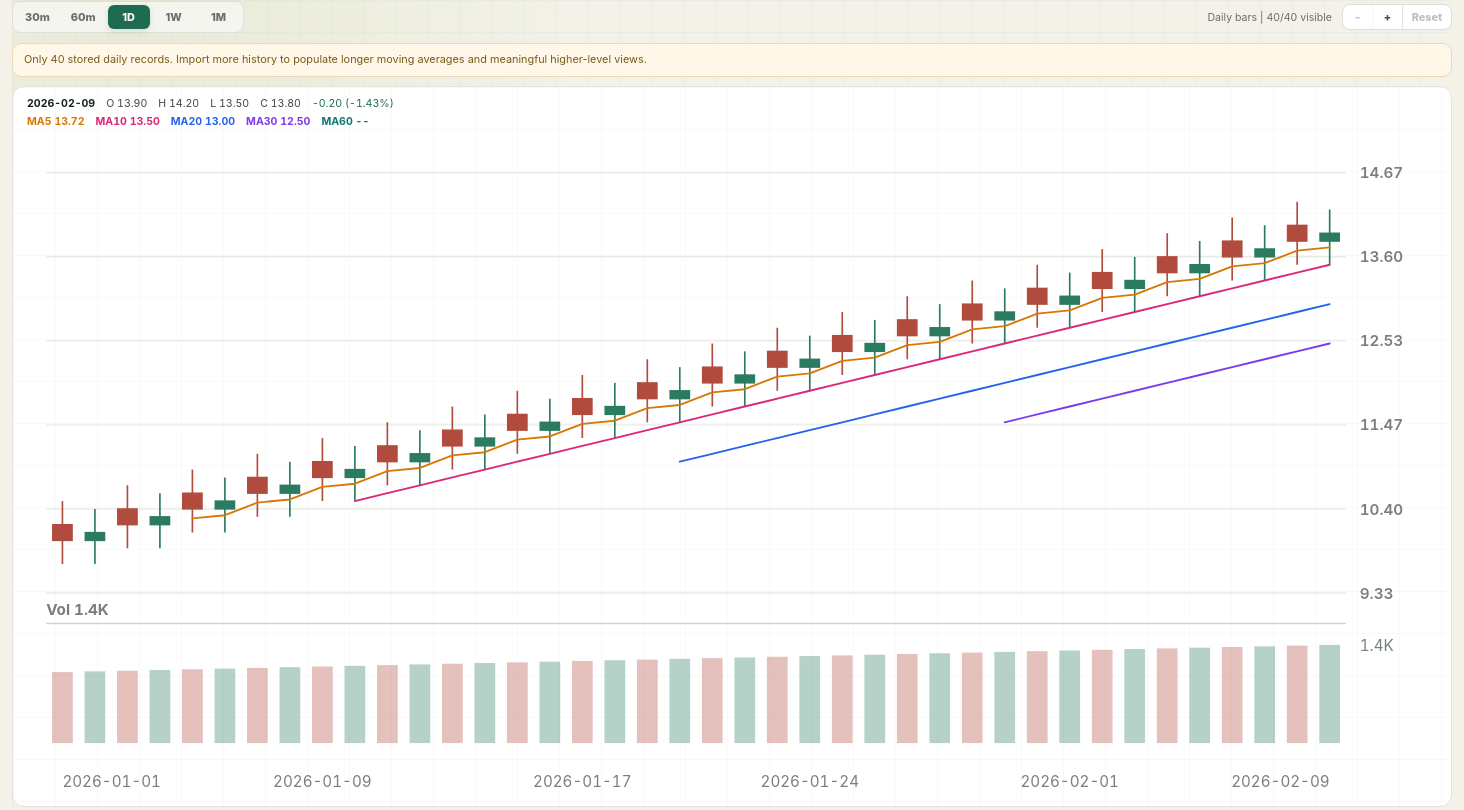
Test: KlineChart › zooms into a smaller bar window and resets to the full history
What coordinates should you click on to do the following:
click the button named "Zoom in"
I would click on:
 (1388, 17)
Its box is [1373, 5, 1403, 29].
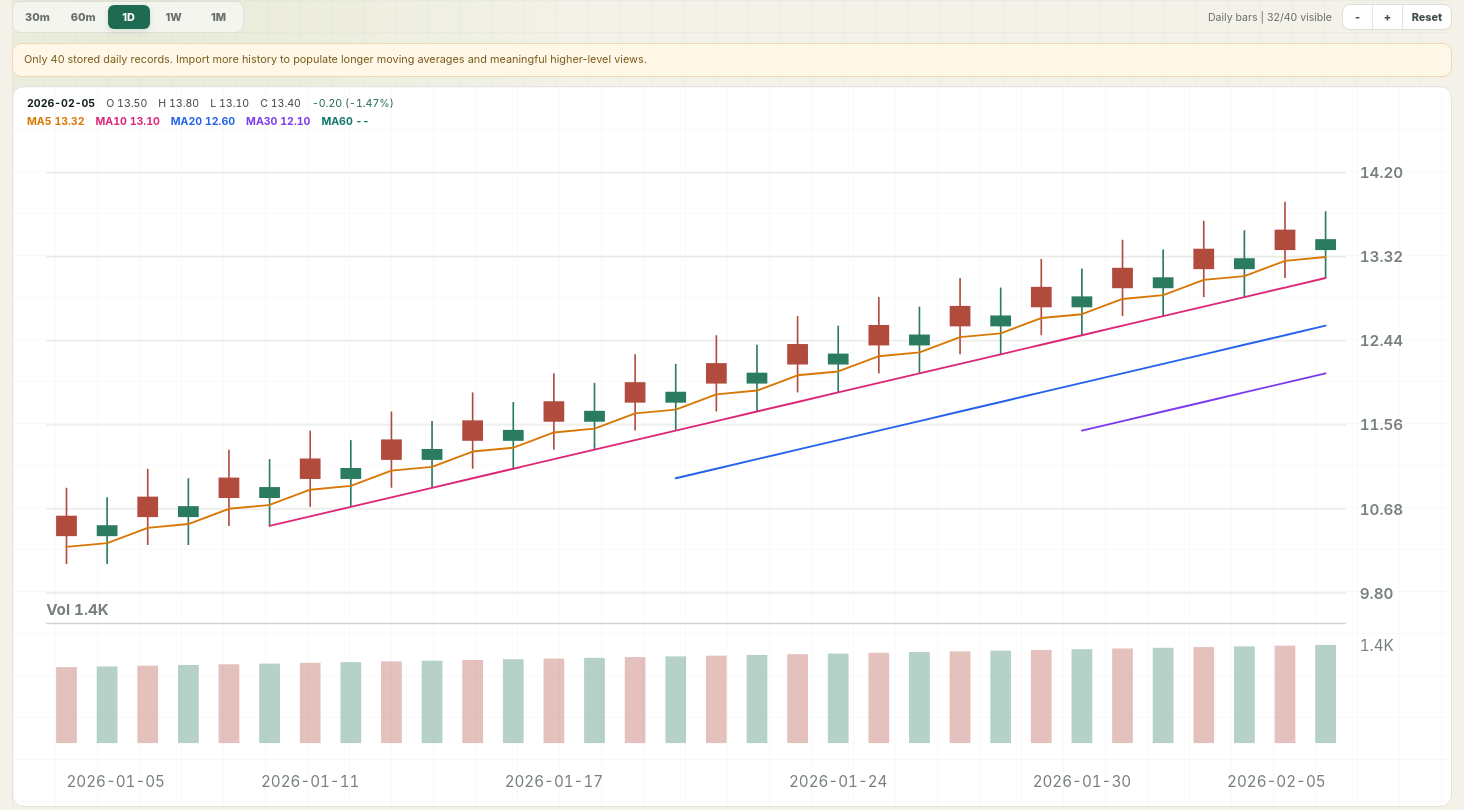
Expected: the button named "Zoom out" is enabled, [1343, 5, 1373, 29]
Expected: the picture named "Daily K-line chart showing 32 of 40 price records" is shown
What coordinates should you click on to do the following:
click the button "Reset"
I would click on:
 (1427, 17)
Its box is [1403, 5, 1451, 29].
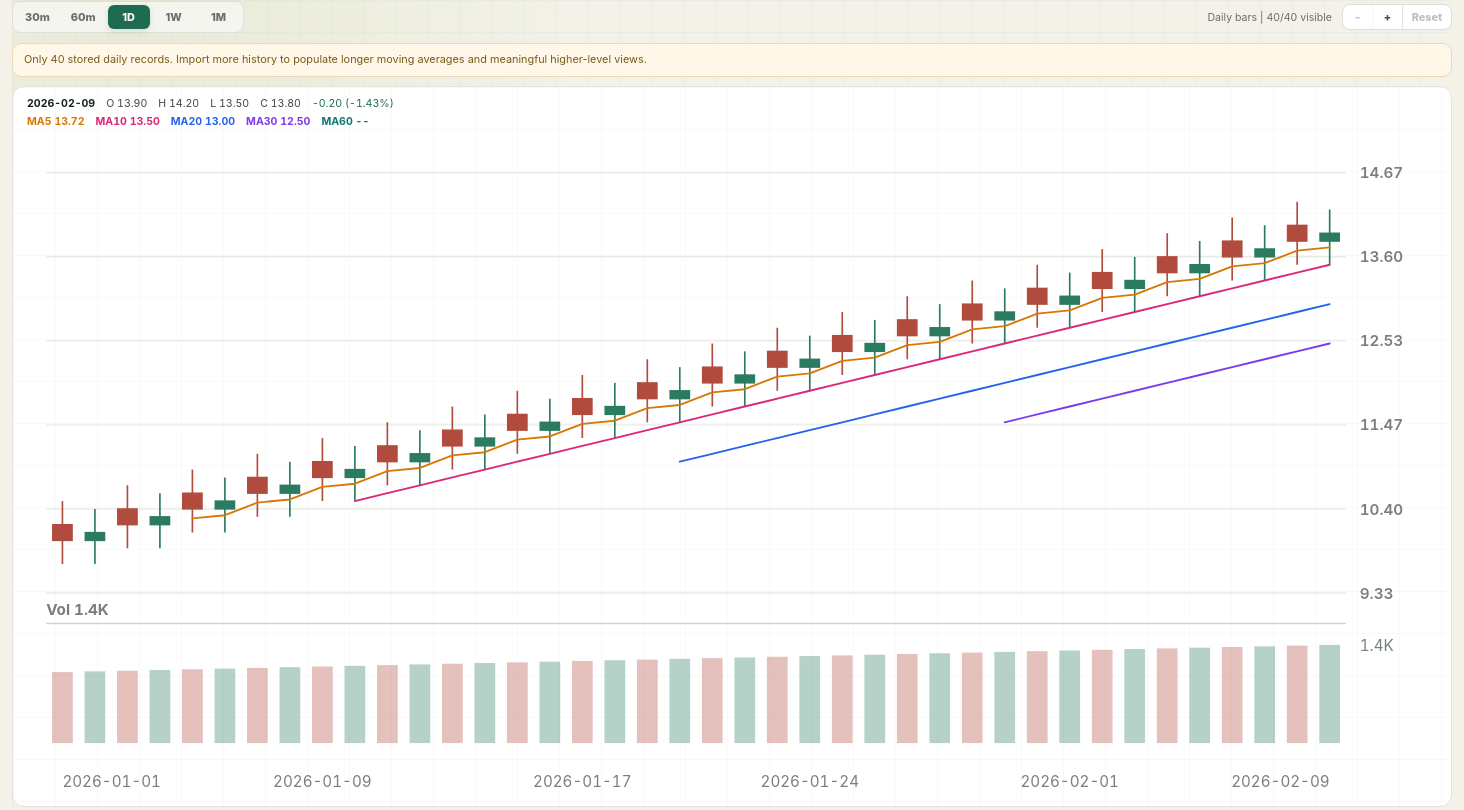
Expected: the picture named "Daily K-line chart with 40 price records" is shown
